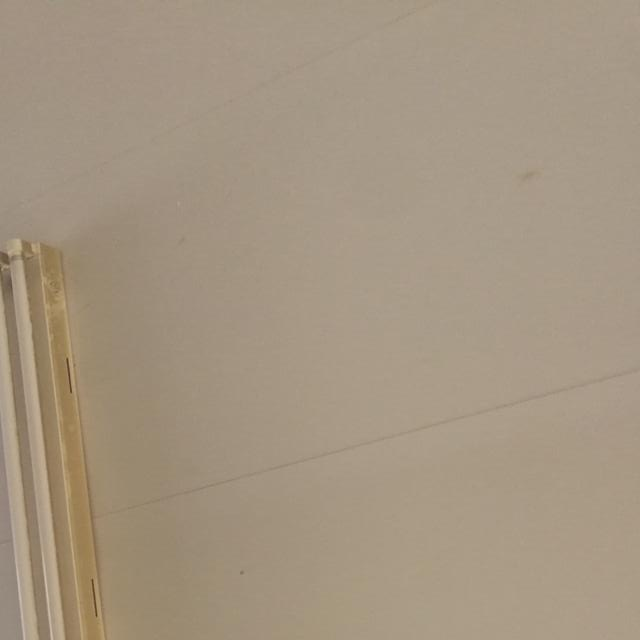fluorescent tube: (0, 213, 178, 640)
